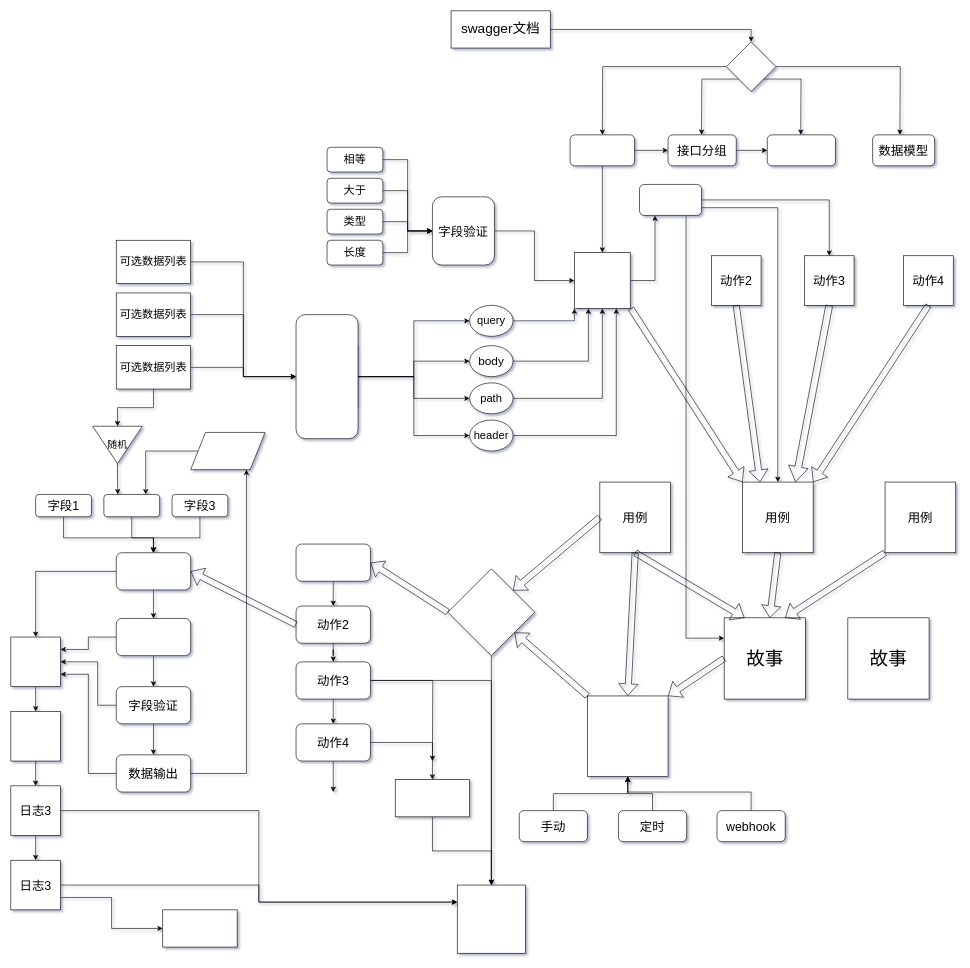
The diagram is 970 pixels wide and 968 high, and some of its shapes have lost their labels. Each missing label, with the box of its shape:
任务报告: (457, 884, 525, 953)
动作1: (574, 252, 630, 308)
字段2: (103, 494, 160, 517)
执行Http: (116, 618, 191, 656)
执行动作1: (295, 543, 370, 581)
接口定义: (569, 134, 635, 166)
数据定义: (295, 314, 358, 439)
数据统计: (395, 779, 470, 817)
日志1: (10, 636, 60, 687)
日志2: (10, 711, 60, 761)
消息通知: (162, 909, 237, 947)
生成数据: (116, 552, 191, 590)
解析: (726, 41, 776, 91)
触发任务: (447, 568, 535, 656)
触发器: (587, 695, 668, 777)
输出规则: (639, 184, 702, 215)
运行时数据: (190, 432, 265, 470)
项目信息: (767, 134, 835, 166)
